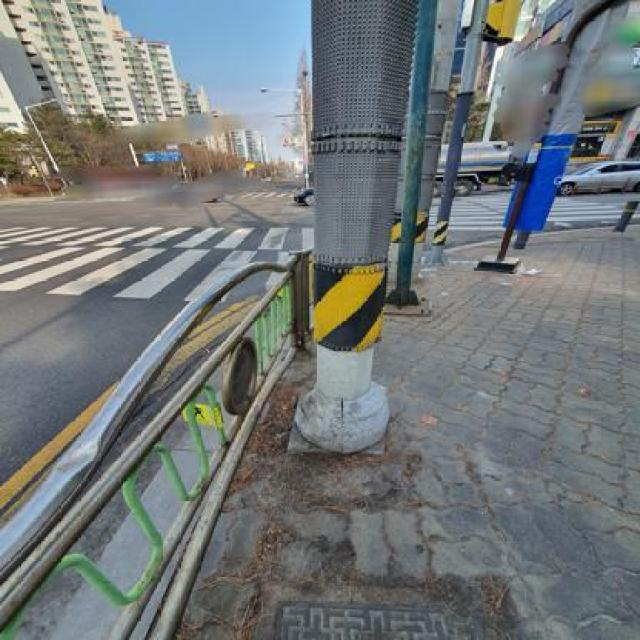fence: (22, 315, 246, 640)
pole: (282, 0, 423, 457)
